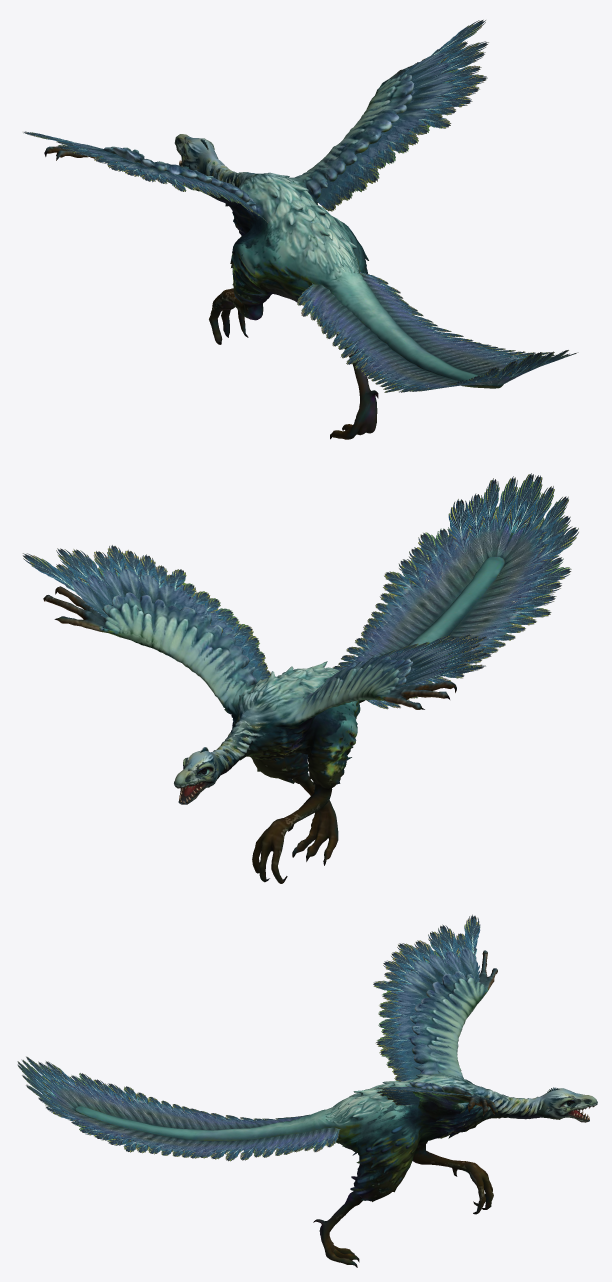
Rendered from index.gltf.
3 views of the same model, one above another, from view 1: azimuth 30°, elevation 25°; view 2: azimuth 150°, elevation 25°; view 3: azimuth 270°, elevation 25° (orthographic). The views are drawn at different scales.
Visible parts, largest first — view 1: node_shizuniao1_-3420; view 2: node_shizuniao1_-3420; view 3: node_shizuniao1_-3420.
Boxes of the visible parts, <box> form: node_shizuniao1_-3420: <box>23,19,578,439</box>; node_shizuniao1_-3420: <box>22,473,578,883</box>; node_shizuniao1_-3420: <box>17,914,597,1267</box>.
Bounding box in the file's own units: 222 × 140 × 295.
1 material, 1 textured.
